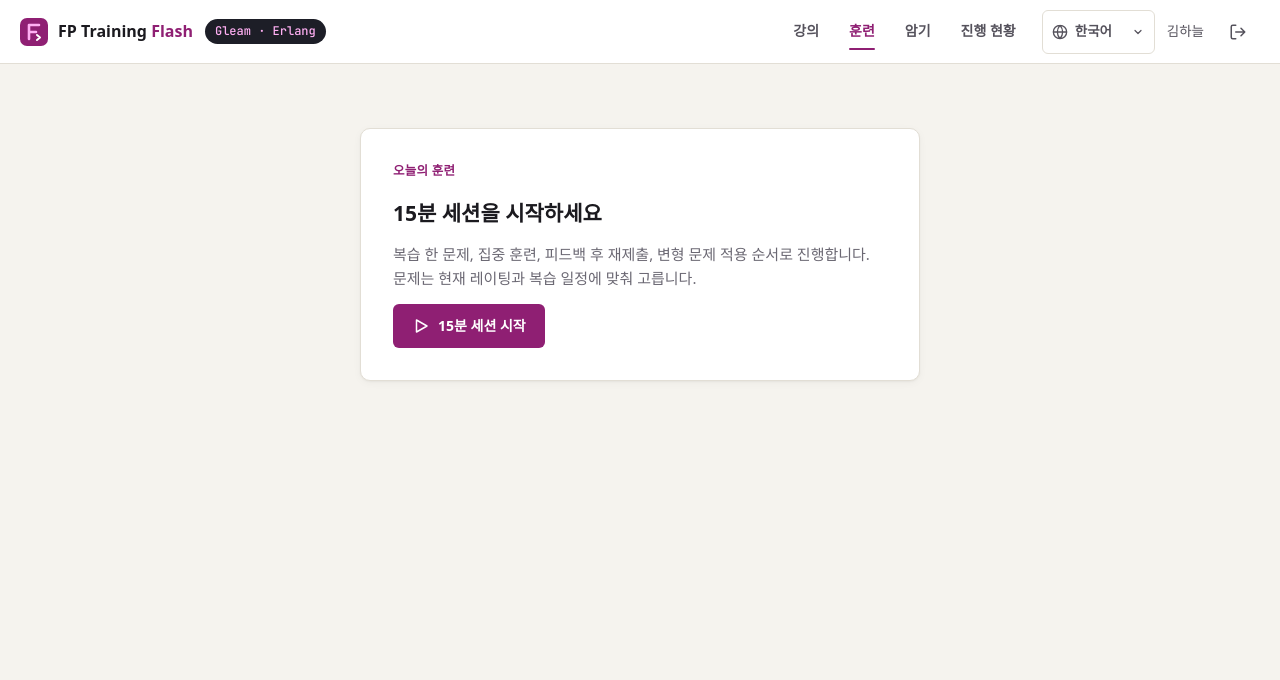
it: training flow › completes a session and shows the summary
Click the button "15분 세션 시작". click: (469,326)
box: [393,304,545,348]
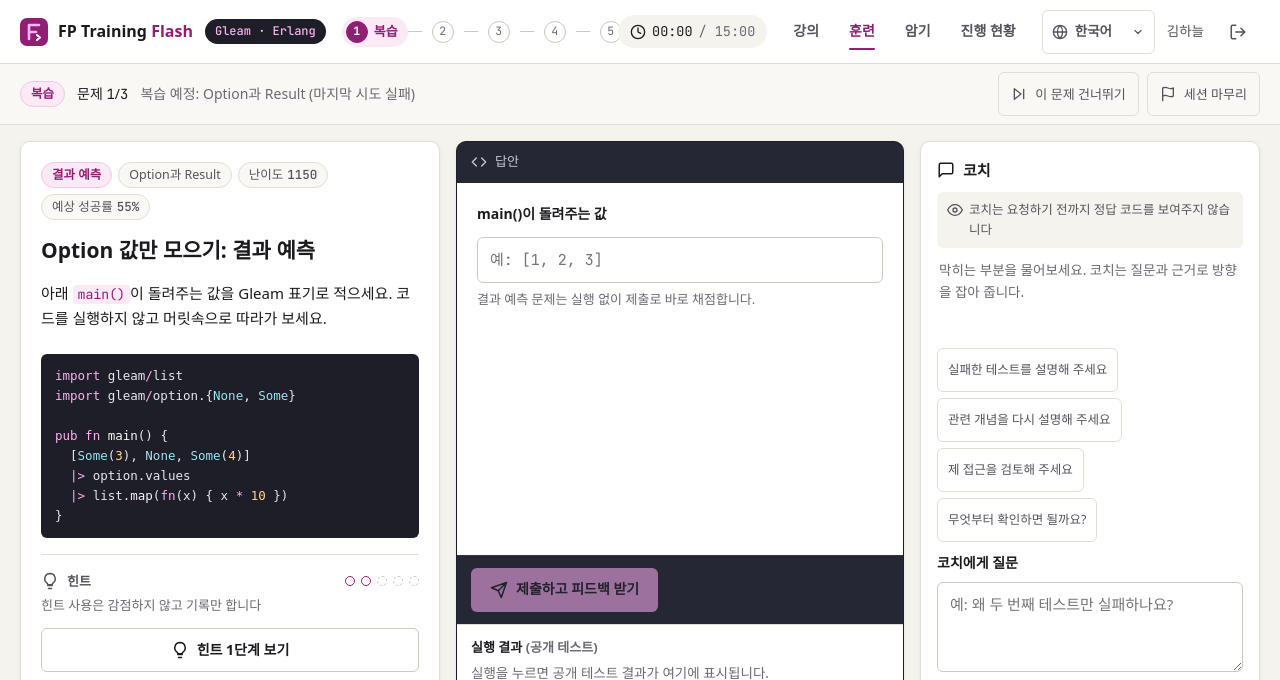
Expected: the heading "Option 값만 모으기: 결과 예측" is shown, [41,236,315,264]
Click the field labelled "main()이 돌려주는 값". click: (680,260)
box: [477,237,883,283]
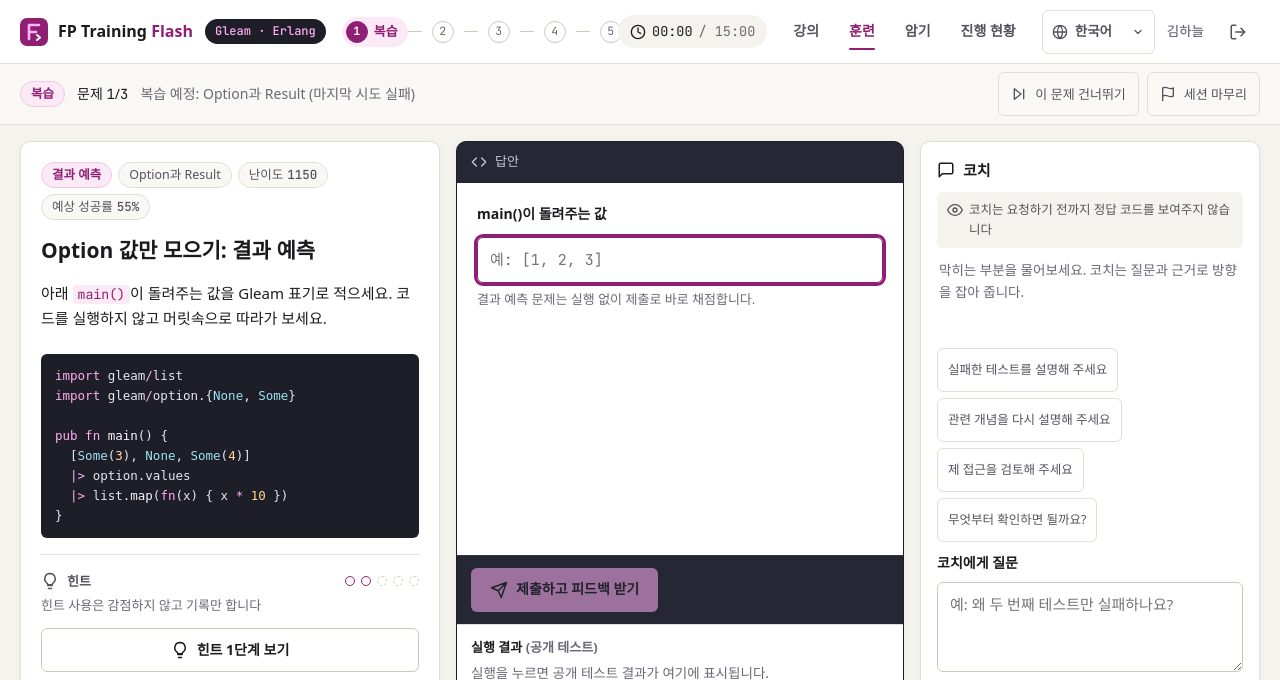
Type keys "[30, 40]"
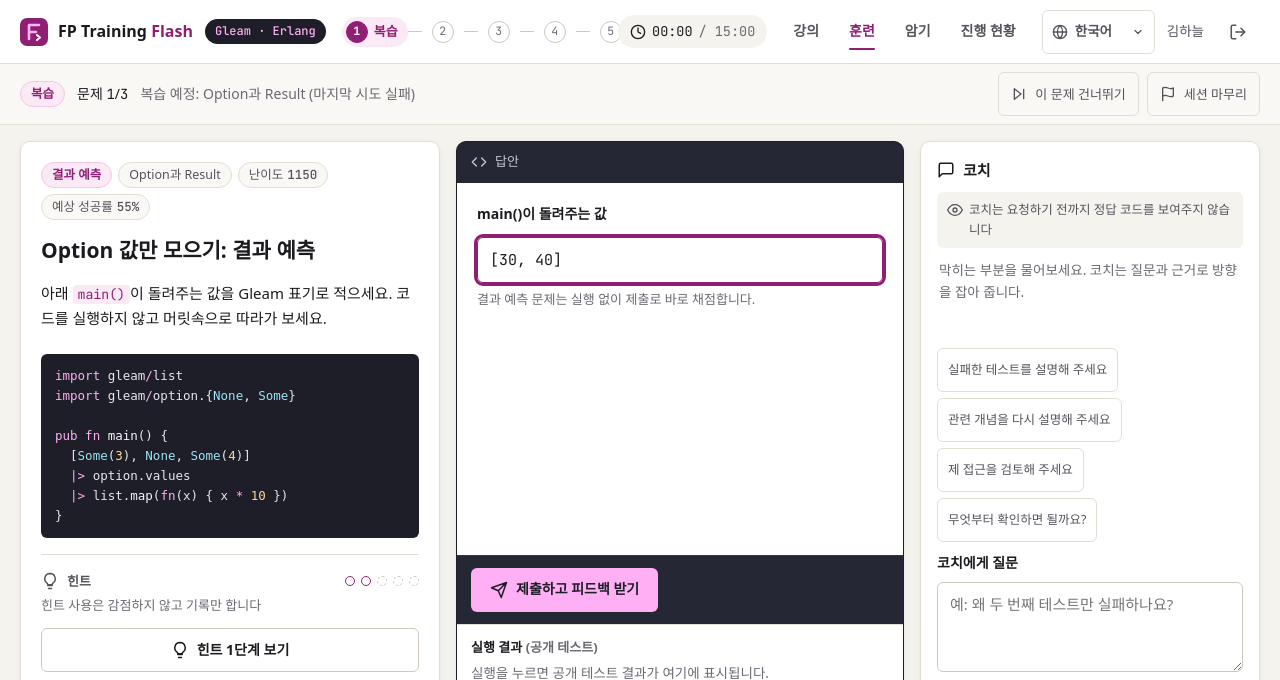
Click the button "제출하고 피드백 받기". click: (565,590)
box: [471,568,658,612]
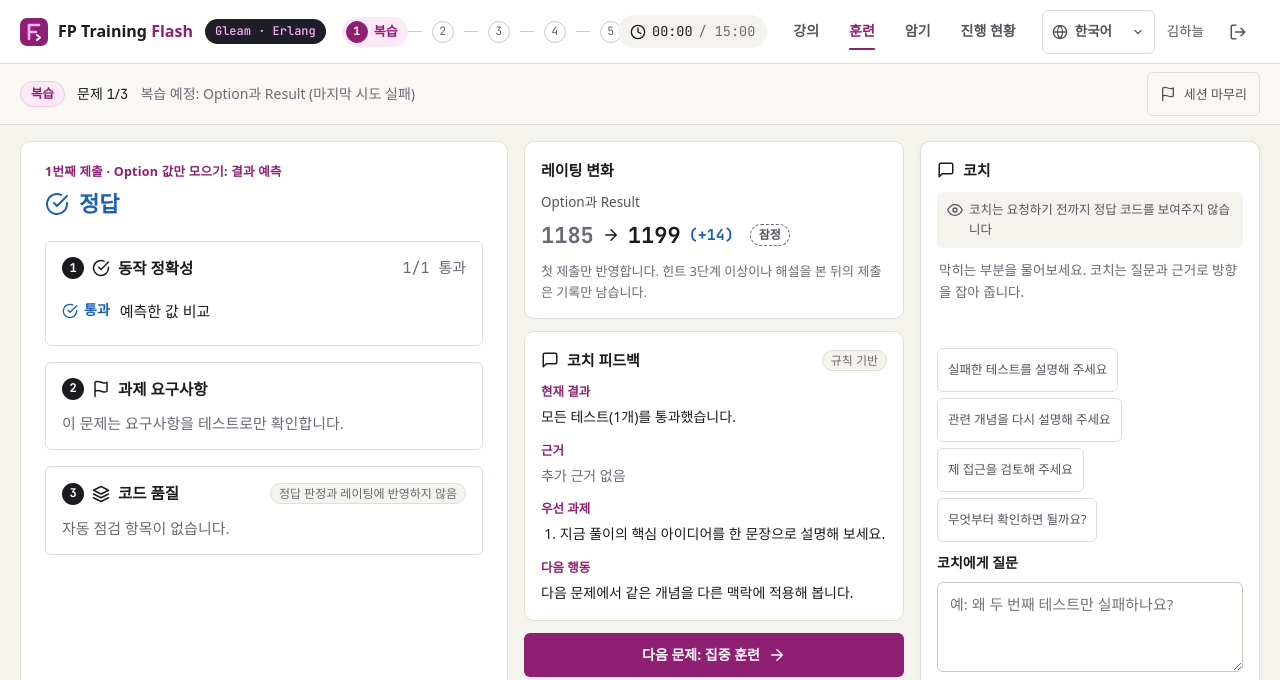
Expected: the text "정답" is shown, [45,186,120,221]
Click the button "다음 문제: 집중 훈련". click: (714,655)
box: [524,633,904,677]
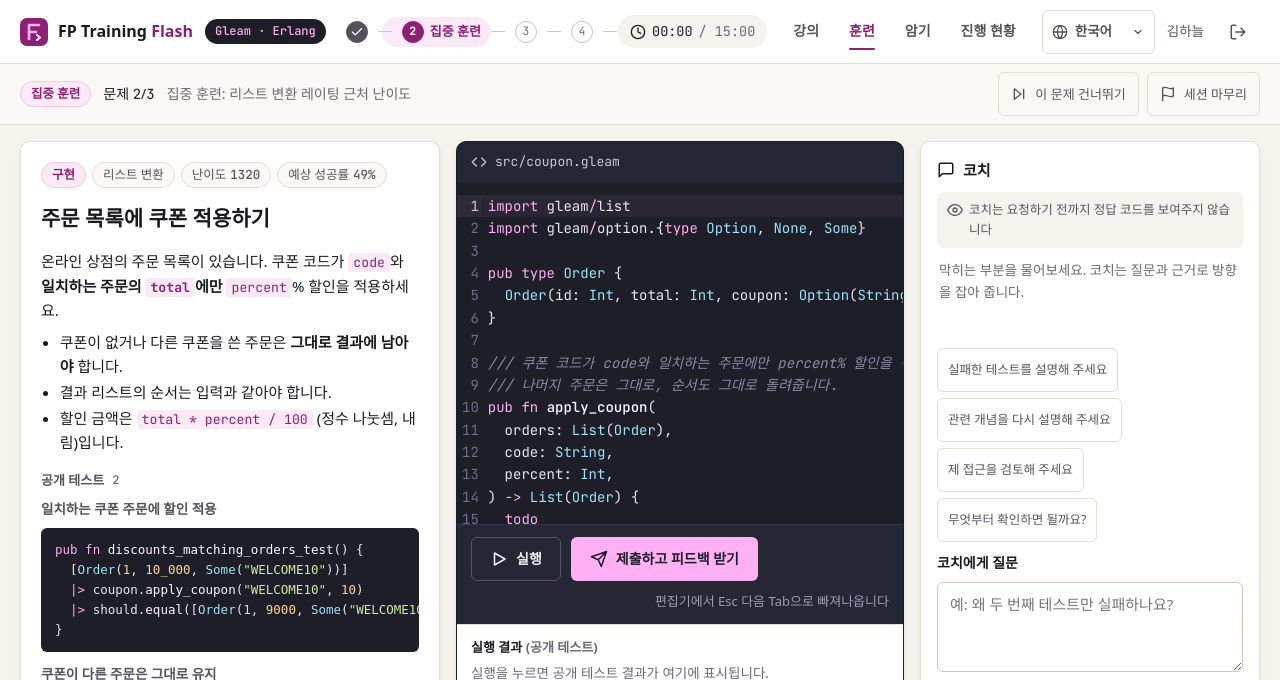
Expected: the heading "주문 목록에 쿠폰 적용하기" is shown, [41,204,270,232]
Click the button "세션 마무리". click: (1203,94)
box: [1147,72,1260,116]
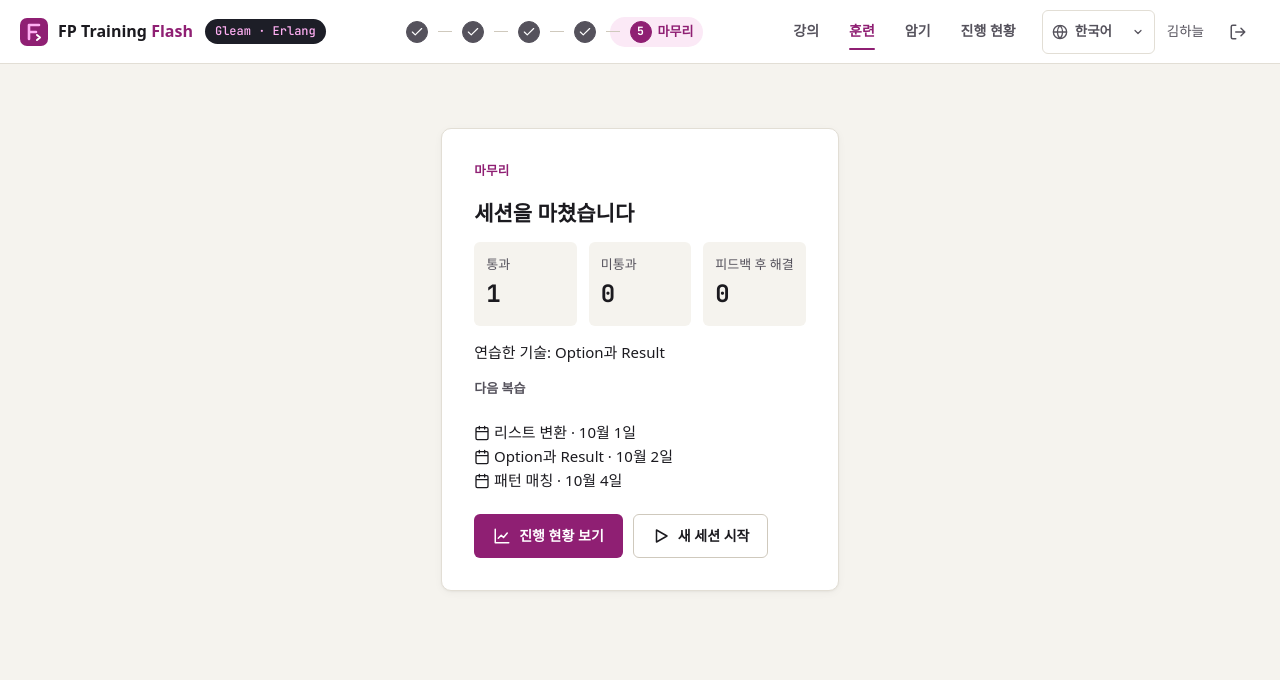
Expected: the text "1" is shown, [486,278,501,309]
Expected: the heading "세션을 마쳤습니다" is shown, [474,199,634,228]
